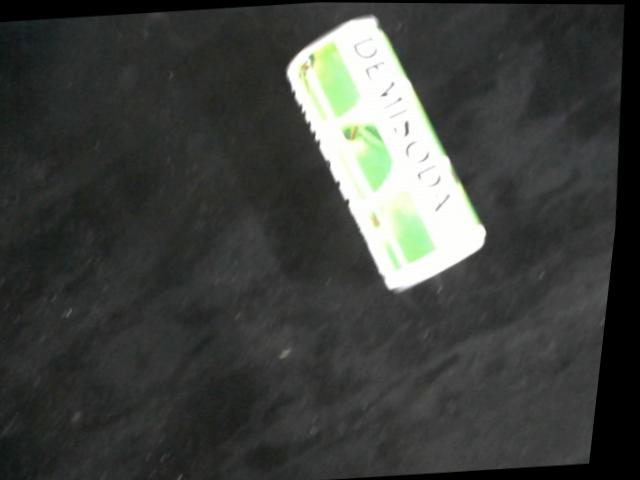can: (286, 12, 492, 294)
